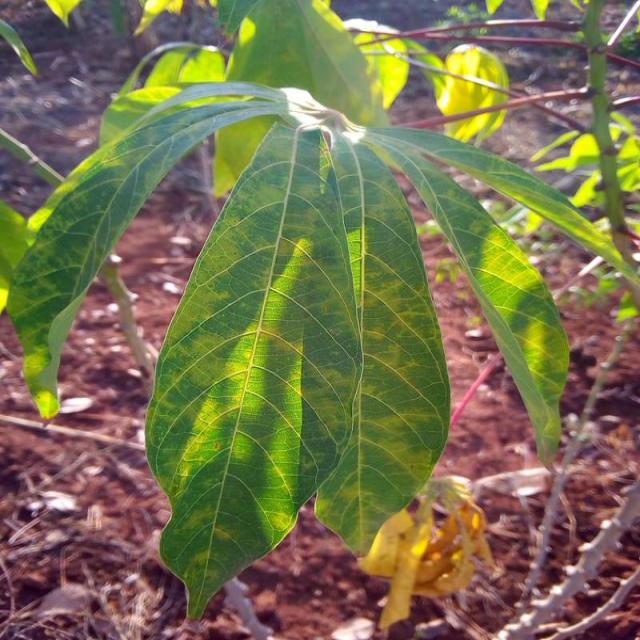cassava leaf: (143, 116, 451, 621), (310, 125, 452, 558)
